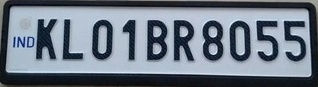character: (282, 19, 306, 61), (34, 18, 57, 61), (256, 19, 279, 61), (62, 16, 84, 59), (201, 19, 223, 61), (146, 18, 167, 61), (173, 18, 194, 61), (91, 19, 113, 60), (229, 19, 250, 61), (122, 18, 136, 60)
